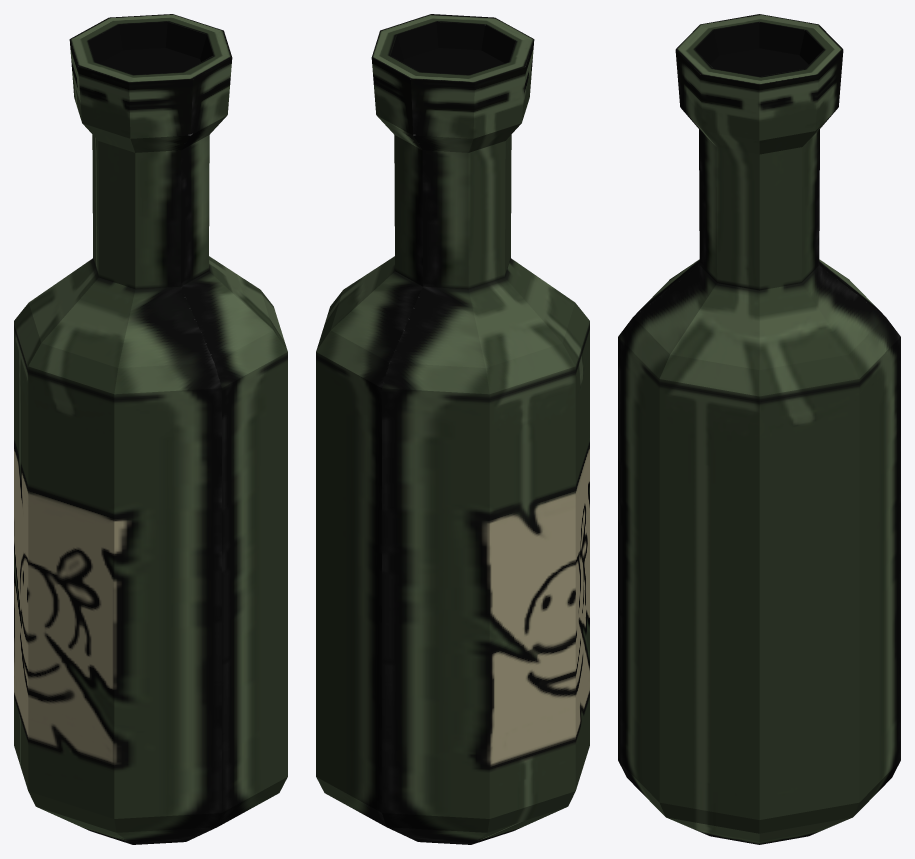
File: WineBottle.fbx
The picture shows the model from 3 angles, left to right: view 1: azimuth 30°, elevation 25°; view 2: azimuth 150°, elevation 25°; view 3: azimuth 270°, elevation 25°; orthographic projection.
Parts seen in each view (by area): view 1: WineBottle; view 2: WineBottle; view 3: WineBottle.
Part boxes in pixels (x1,y1,x2,y2): WineBottle: (14,14,287,844); WineBottle: (316,14,589,844); WineBottle: (618,14,900,844).
Bounding box in the file's own units: 0.0802 × 0.0802 × 0.2397.
1 material, 1 textured.
